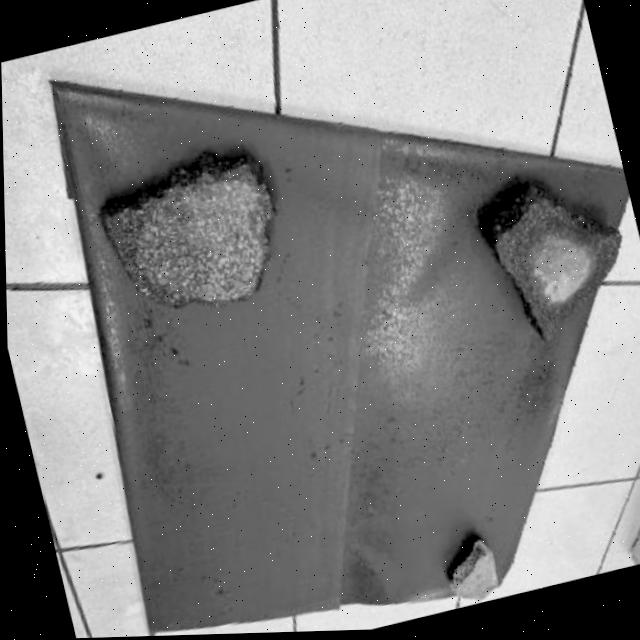Road Debris: (103, 180, 214, 318), (498, 214, 576, 287), (447, 566, 501, 608)
